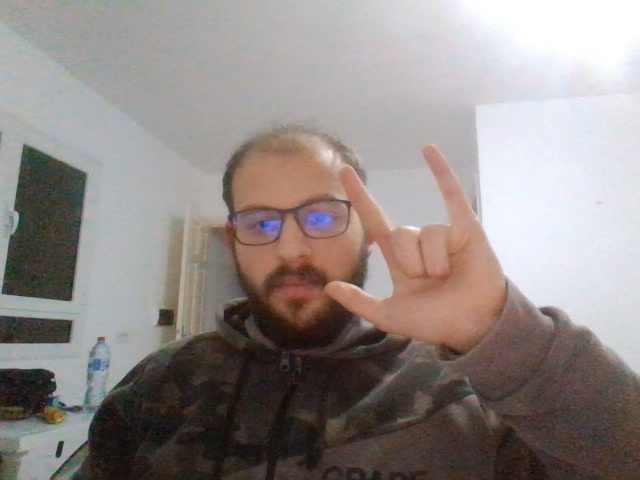I Love You: (333, 159, 496, 334)
